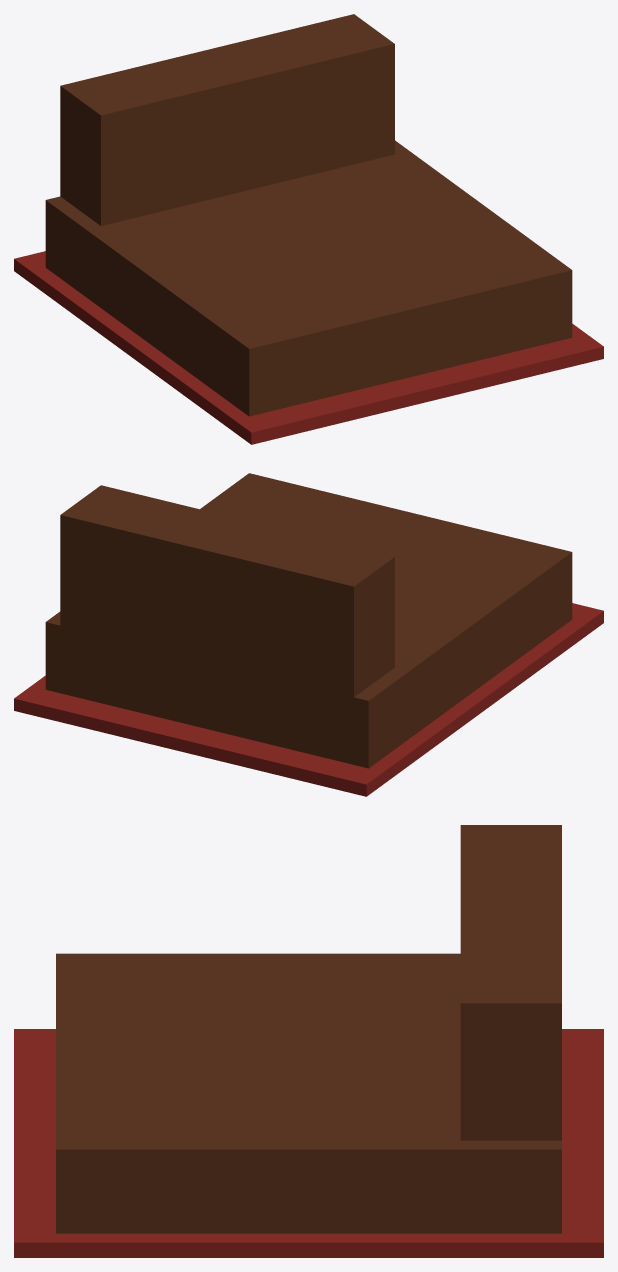
The model's file is saddle.glb.
3 views of the same model, one above another, from view 1: azimuth 30°, elevation 25°; view 2: azimuth 150°, elevation 25°; view 3: azimuth 270°, elevation 25° (orthographic). The views are drawn at different scales.
Bounding box in the file's own units: 0.6 × 0.31 × 0.7.
